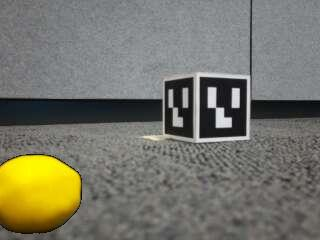lemon: (0, 154, 80, 231)
